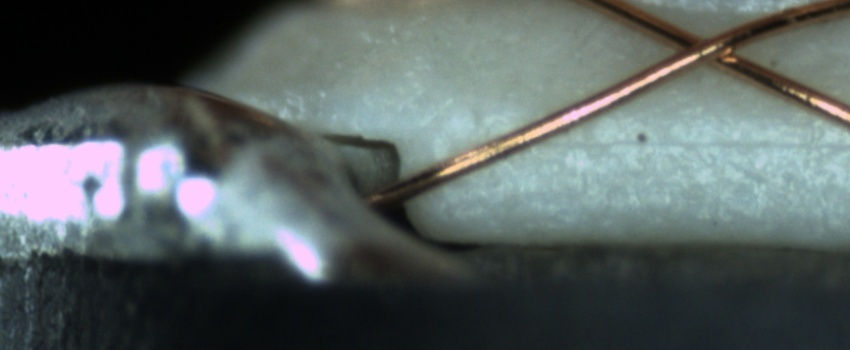CL: (649, 16, 758, 77)
DL: (532, 108, 850, 183)
